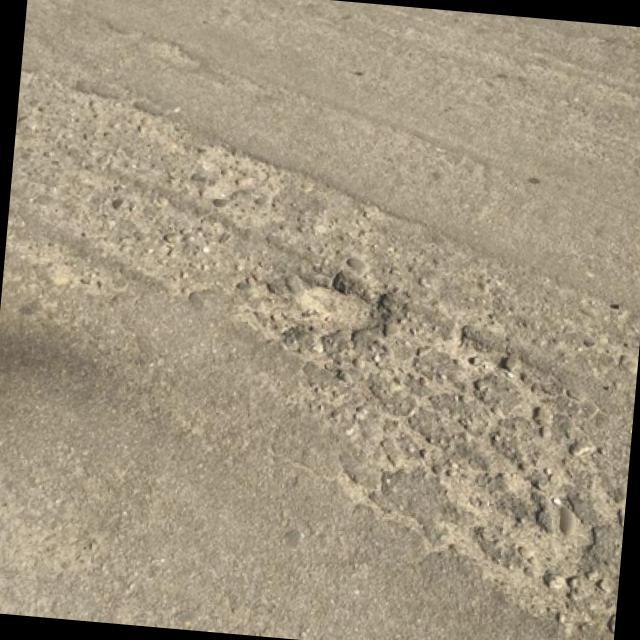Pothole: (292, 286, 370, 334)
